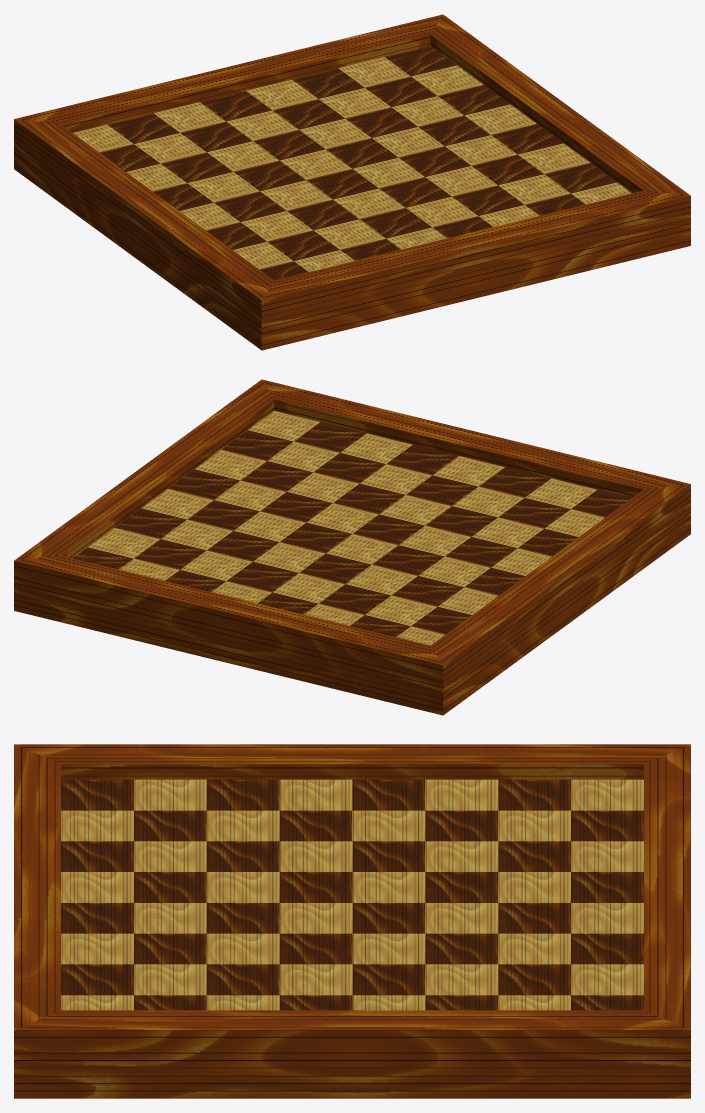
File: Game Board.fbx
3 views of the same model, one above another, from view 1: azimuth 30°, elevation 25°; view 2: azimuth 150°, elevation 25°; view 3: azimuth 270°, elevation 25° (orthographic). The views are drawn at different scales.
Parts seen in each view (by area): view 1: pCube1; view 2: pCube1; view 3: pCube1.
Boxes of the visible parts, x1,y1,x2,y2 form: pCube1: (14,14,690,350); pCube1: (14,379,690,715); pCube1: (14,744,690,1098).
Bounding box in the file's own units: 1162 × 130 × 1162.
1 material, 1 textured.
